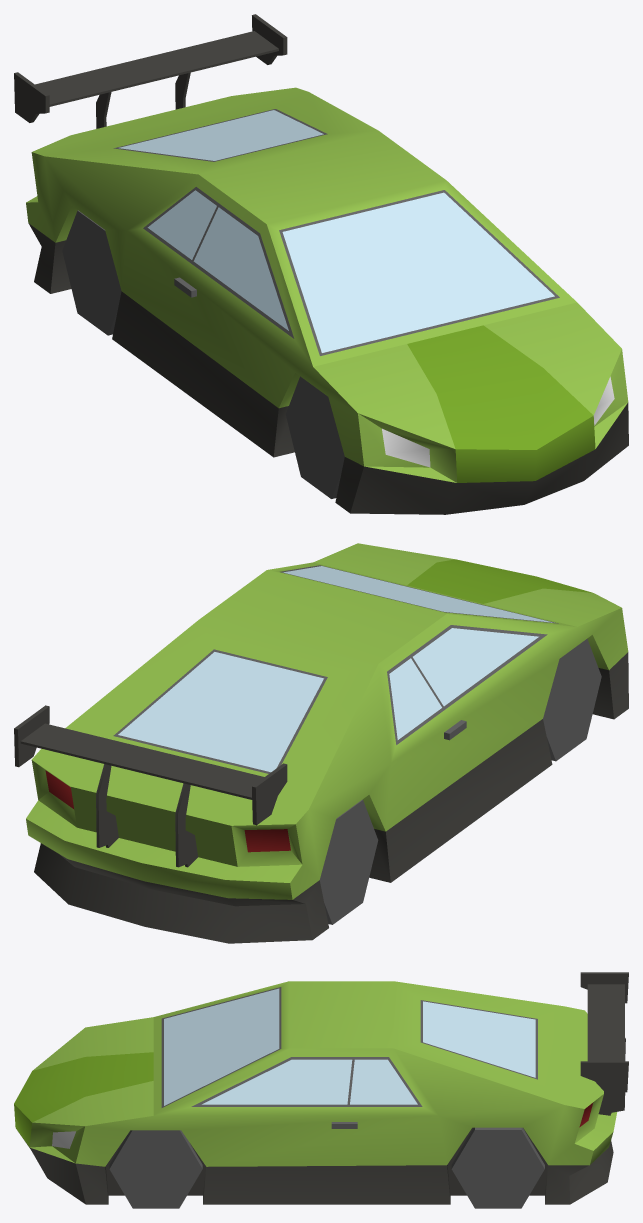
Rendered from hard2.glb.
3 renders of one model, top to bottom at view 1: azimuth 30°, elevation 25°; view 2: azimuth 150°, elevation 25°; view 3: azimuth 270°, elevation 25°, orthographic. The views are drawn at different scales.
Visible parts, largest first — view 1: Car_2_1; view 2: Car_2_1; view 3: Car_2_1.
Part boxes in pixels (x1=…): Car_2_1: x1=14, y1=14, x2=628, y2=514; Car_2_1: x1=14, y1=543, x2=628, y2=943; Car_2_1: x1=14, y1=972, x2=628, y2=1208.
Bounding box in the file's own units: 2.97 × 1.94 × 7.41.
1 material, 1 textured.
